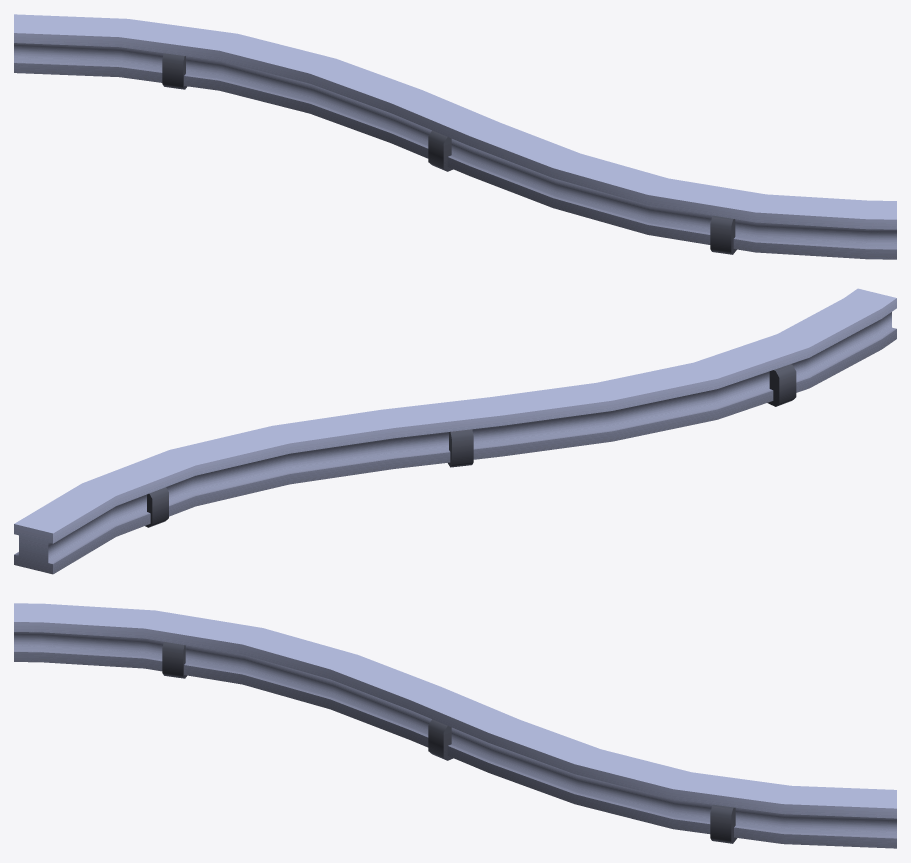
File: coaster-monorail-curve.glb
3 renders of one model, top to bottom at view 1: azimuth 90°, elevation 25°; view 2: azimuth 150°, elevation 25°; view 3: azimuth 270°, elevation 25°, orthographic. The views are drawn at different scales.
Visible parts, largest first — view 1: coaster-monorail-curve; view 2: coaster-monorail-curve; view 3: coaster-monorail-curve.
Part boxes in pixels (box(x1,y1,x2,y2)): coaster-monorail-curve: box(14, 14, 896, 259); coaster-monorail-curve: box(14, 288, 896, 574); coaster-monorail-curve: box(14, 603, 896, 848).
Bounding box in the file's own units: 6.6 × 0.675 × 12.
Materials: 1 (1 with a texture image).
